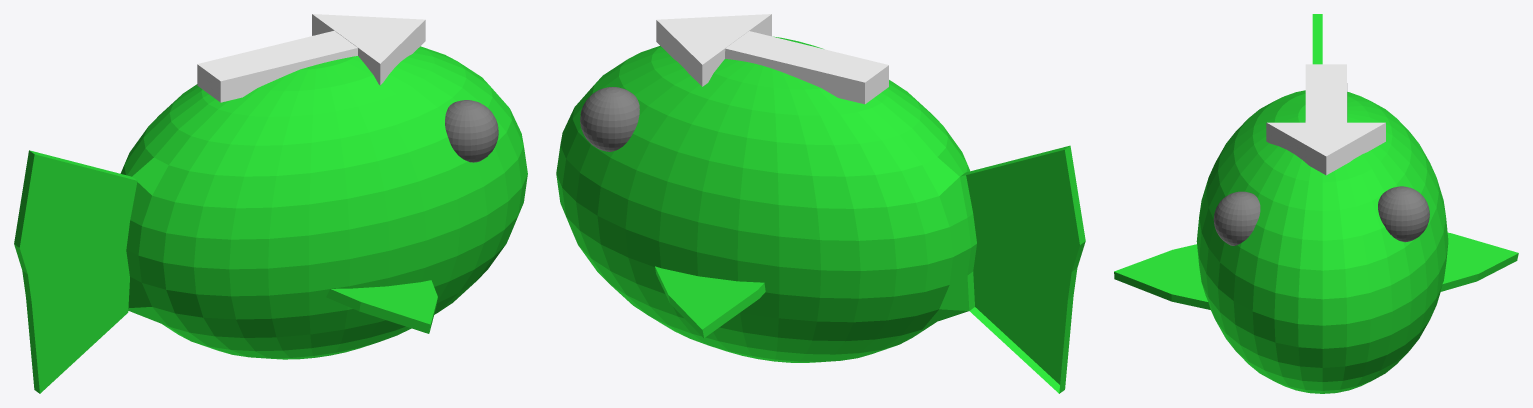
File: SmallFishGreen.fbx
3 views of the same model, side by side, from view 1: azimuth 30°, elevation 25°; view 2: azimuth 150°, elevation 25°; view 3: azimuth 270°, elevation 25° (orthographic). The views are drawn at different scales.
Visible parts, largest first — view 1: Сфера.003; view 2: Сфера.003; view 3: Сфера.003.
Boxes of the visible parts, left/top/right/bottom form: Сфера.003: left=14, top=14, right=527, bottom=393; Сфера.003: left=556, top=14, right=1085, bottom=393; Сфера.003: left=1114, top=14, right=1518, bottom=393.
Bounding box in the file's own units: 338 × 190 × 270.
